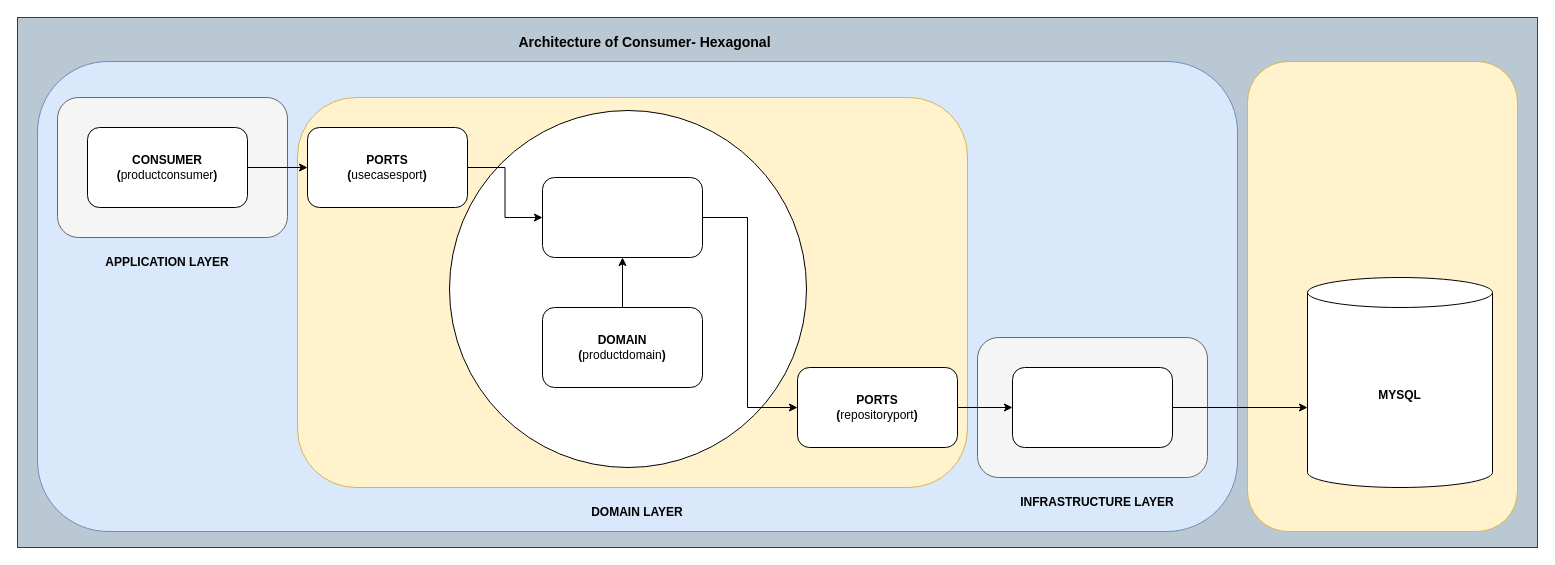
This 1555x565 diagram has some shape labels left out. The box of each missing label's shape, as (x1, y1, x2, y2) in pixels:
REPOSITORY ( productrepository ): (1012, 366, 1172, 448)
USE CASE ( productusecase ): (542, 176, 702, 258)
